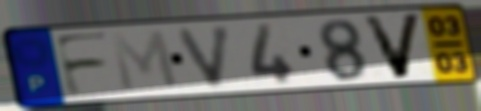4: (248, 20, 298, 87)
8: (313, 17, 369, 83)
F: (51, 30, 114, 99)
M: (107, 28, 184, 95)
V: (359, 11, 426, 82), (173, 22, 236, 91)
